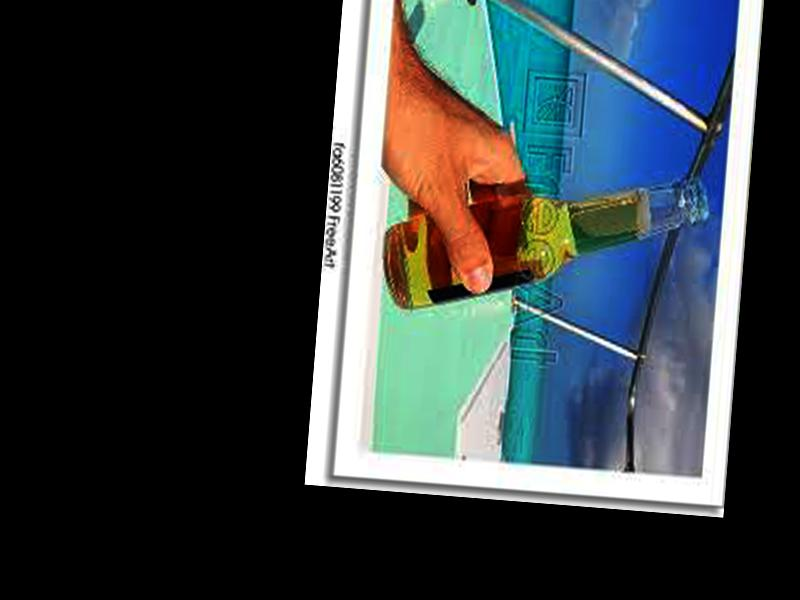Beer: (383, 145, 709, 334)
